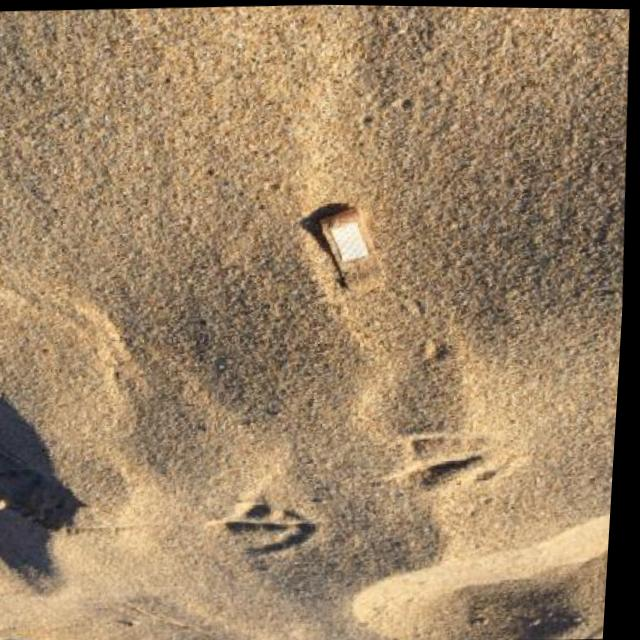other: (313, 205, 391, 293)
